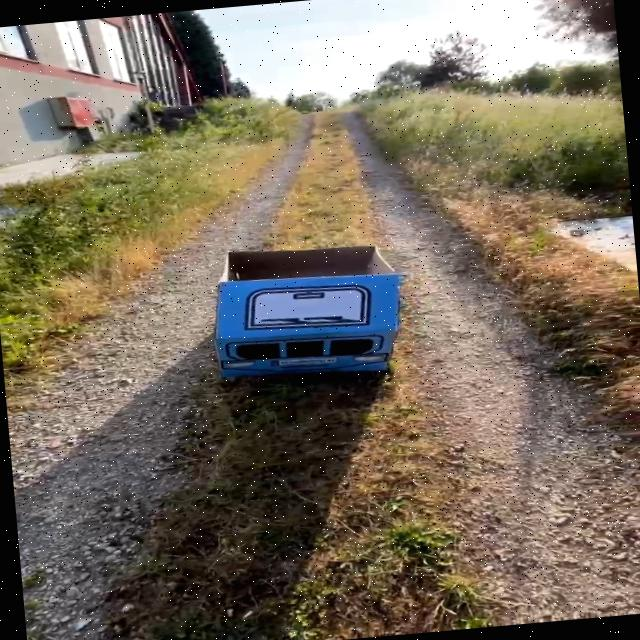blue_car: (162, 200, 435, 427)
